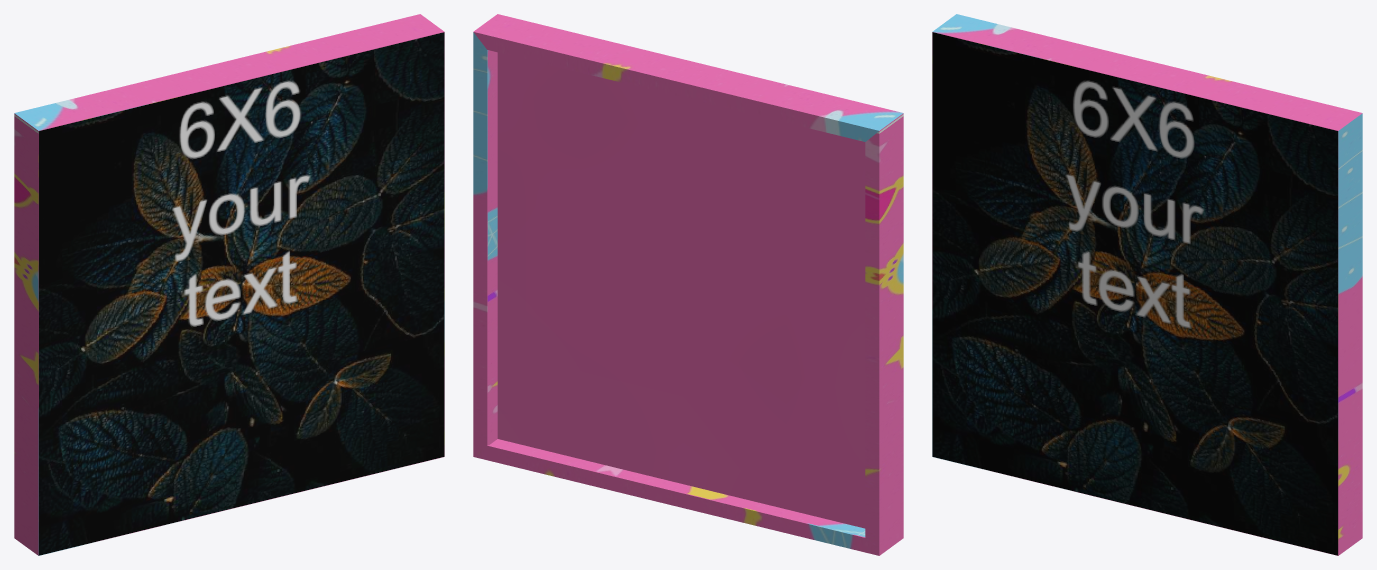
Rendered from 6x6_alternative.glb.
The picture shows the model from 3 angles, left to right: view 1: azimuth 30°, elevation 25°; view 2: azimuth 150°, elevation 25°; view 3: azimuth 330°, elevation 25°; orthographic projection.
Parts seen in each view (by area): view 1: printing_Area; view 2: printing_Area; view 3: printing_Area.
Part boxes in pixels (<box>): printing_Area: <box>14,14,444,555</box>; printing_Area: <box>473,14,903,555</box>; printing_Area: <box>932,14,1362,555</box>.
Size of the model in its own units: 1.55 by 1.55 by 0.1607.
Materials: 1 (1 with a texture image).
